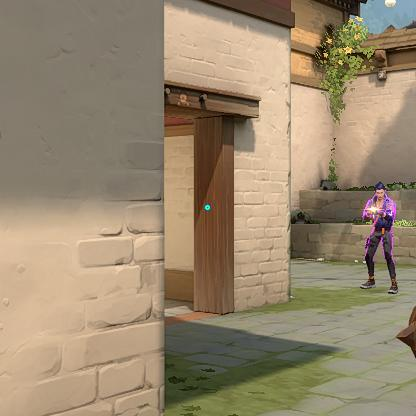enemyBody: (374, 201, 388, 229)
enemyHead: (376, 189, 384, 200)
